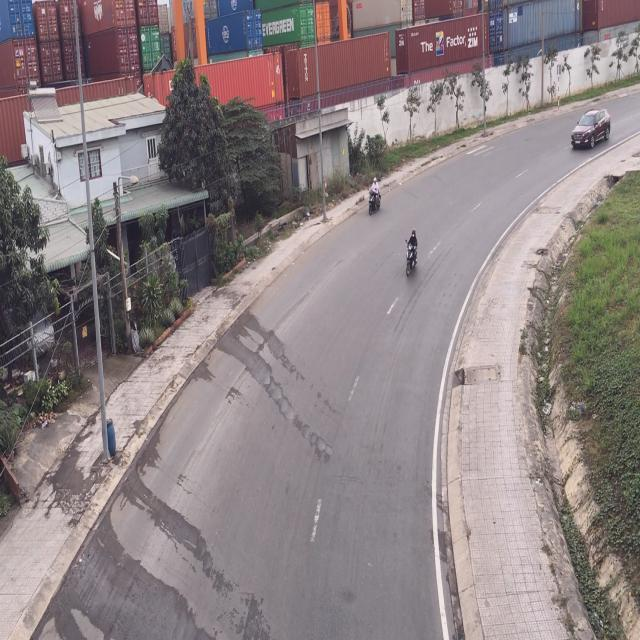car: (570, 110, 610, 153)
motorbike: (406, 228, 420, 278), (365, 175, 381, 217)
